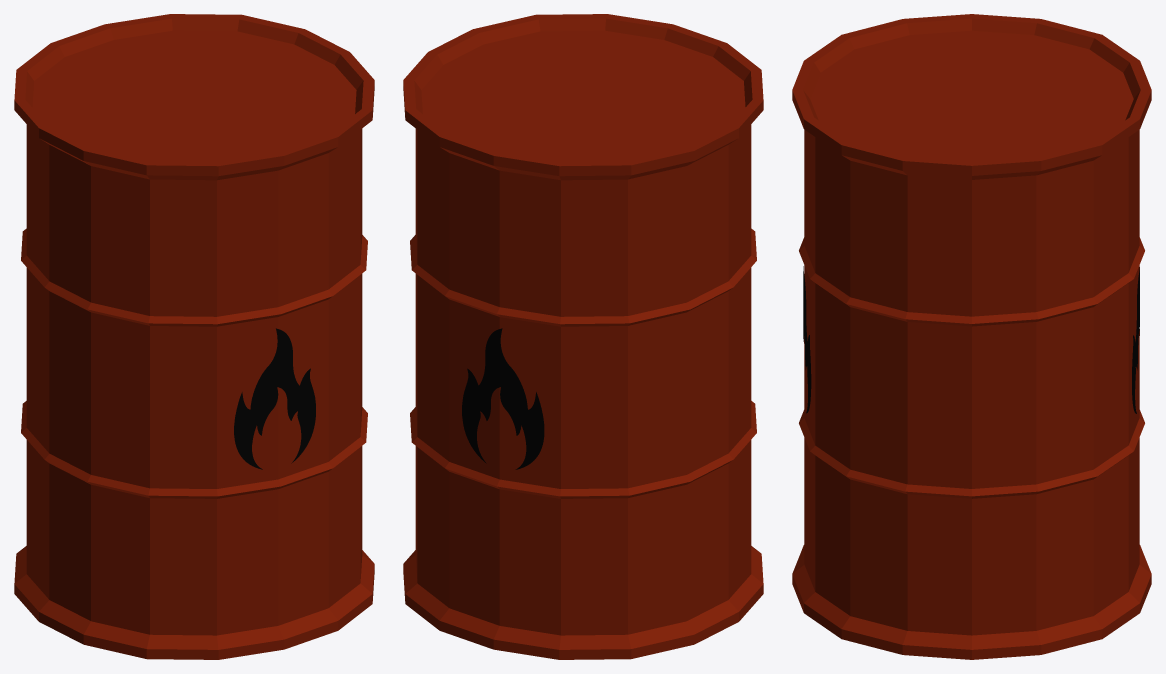
The model's file is FlamableBarrel.glb.
3 views of the same model, side by side, from view 1: azimuth 30°, elevation 25°; view 2: azimuth 150°, elevation 25°; view 3: azimuth 270°, elevation 25° (orthographic).
Visible parts, largest first — view 1: FlamableBarrel; view 2: FlamableBarrel; view 3: FlamableBarrel.
Part boxes in pixels (x1,y1,x2,y2): FlamableBarrel: [14, 14, 374, 659]; FlamableBarrel: [403, 14, 763, 659]; FlamableBarrel: [792, 14, 1151, 659].
Bounding box in the file's own units: 2.15 × 3.25 × 2.15.
2 materials, 1 textured.
